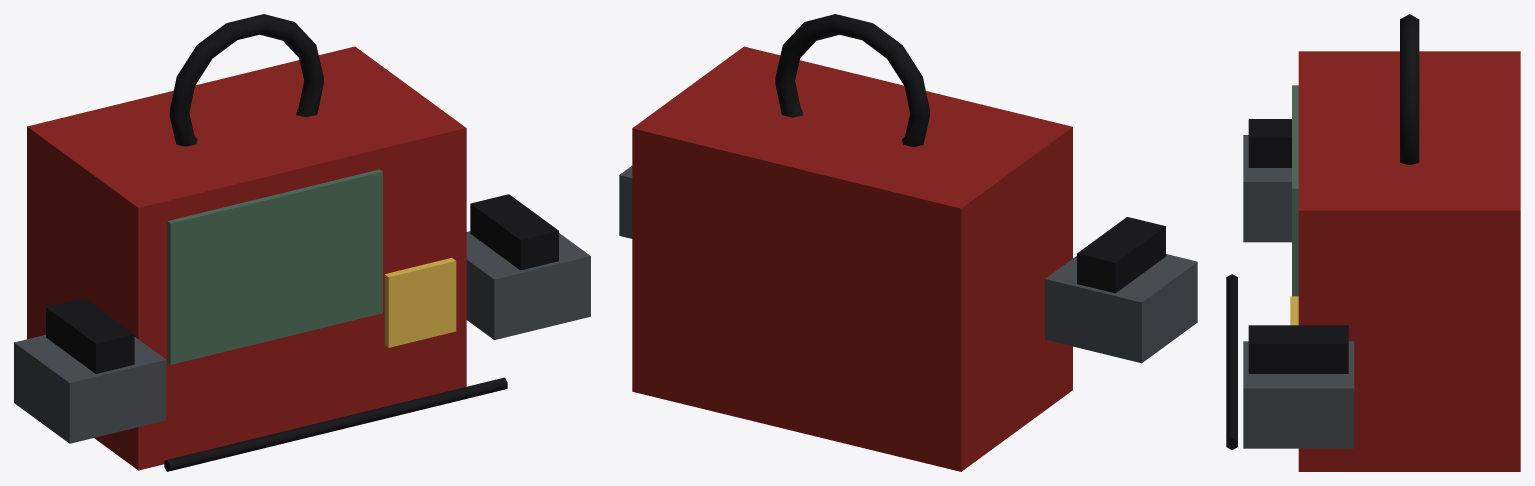
Rendered from Defibrillator_monitor.obj.
3 views of the same model, side by side, from view 1: azimuth 30°, elevation 25°; view 2: azimuth 150°, elevation 25°; view 3: azimuth 270°, elevation 25° (orthographic).
Parts seen in each view (by area): view 1: Defibrillator_monitor; view 2: Defibrillator_monitor; view 3: Defibrillator_monitor.
Part boxes in pixels (x1,y1,x2,y2): Defibrillator_monitor: [14, 14, 590, 471]; Defibrillator_monitor: [619, 14, 1197, 471]; Defibrillator_monitor: [1226, 14, 1520, 471].
Bounding box in the file's own units: 0.54 × 0.368 × 0.2652.
